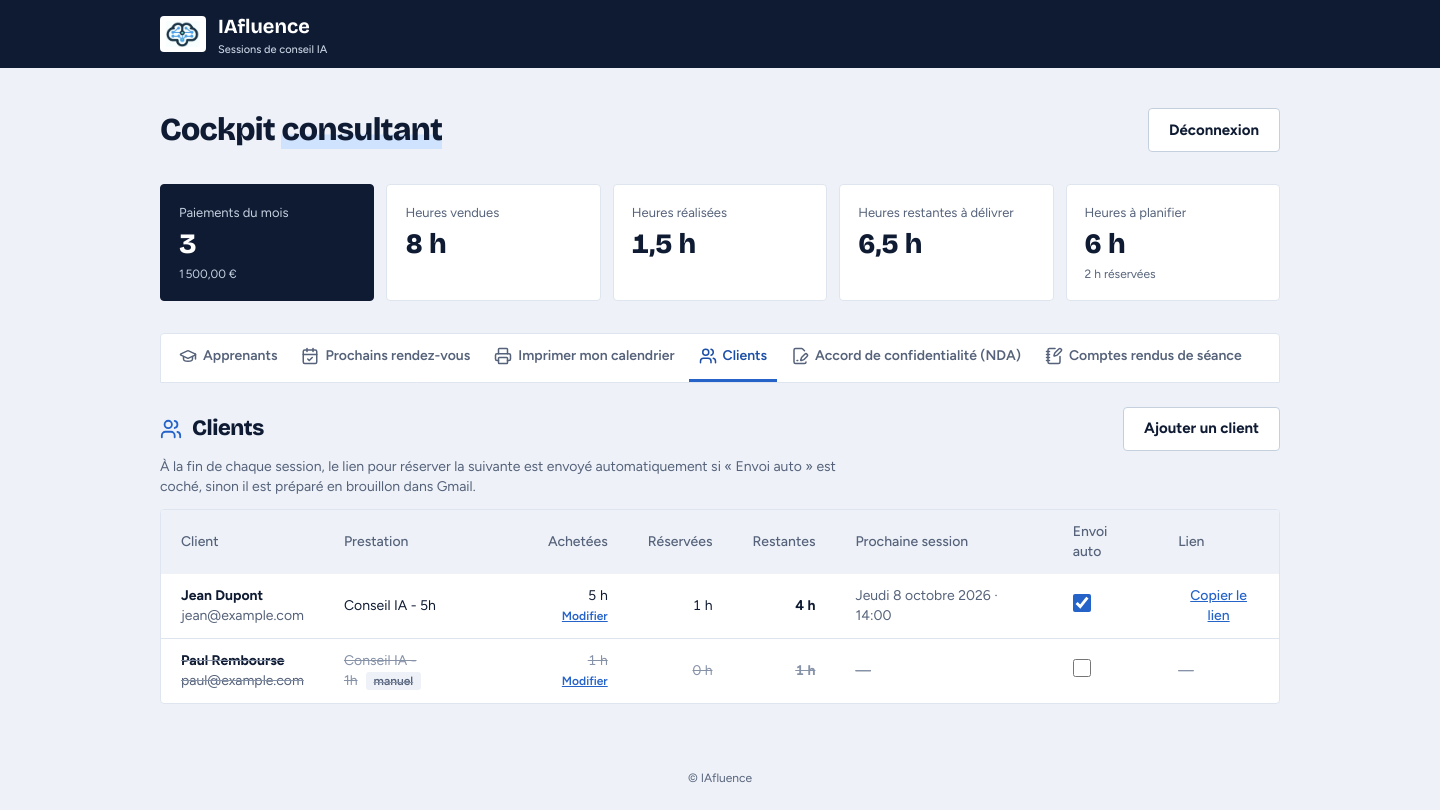
Test: Cockpit › copies a client's booking link
Click the button "Copier le lien".
click(1219, 606)  # box [1178,586,1259,626]
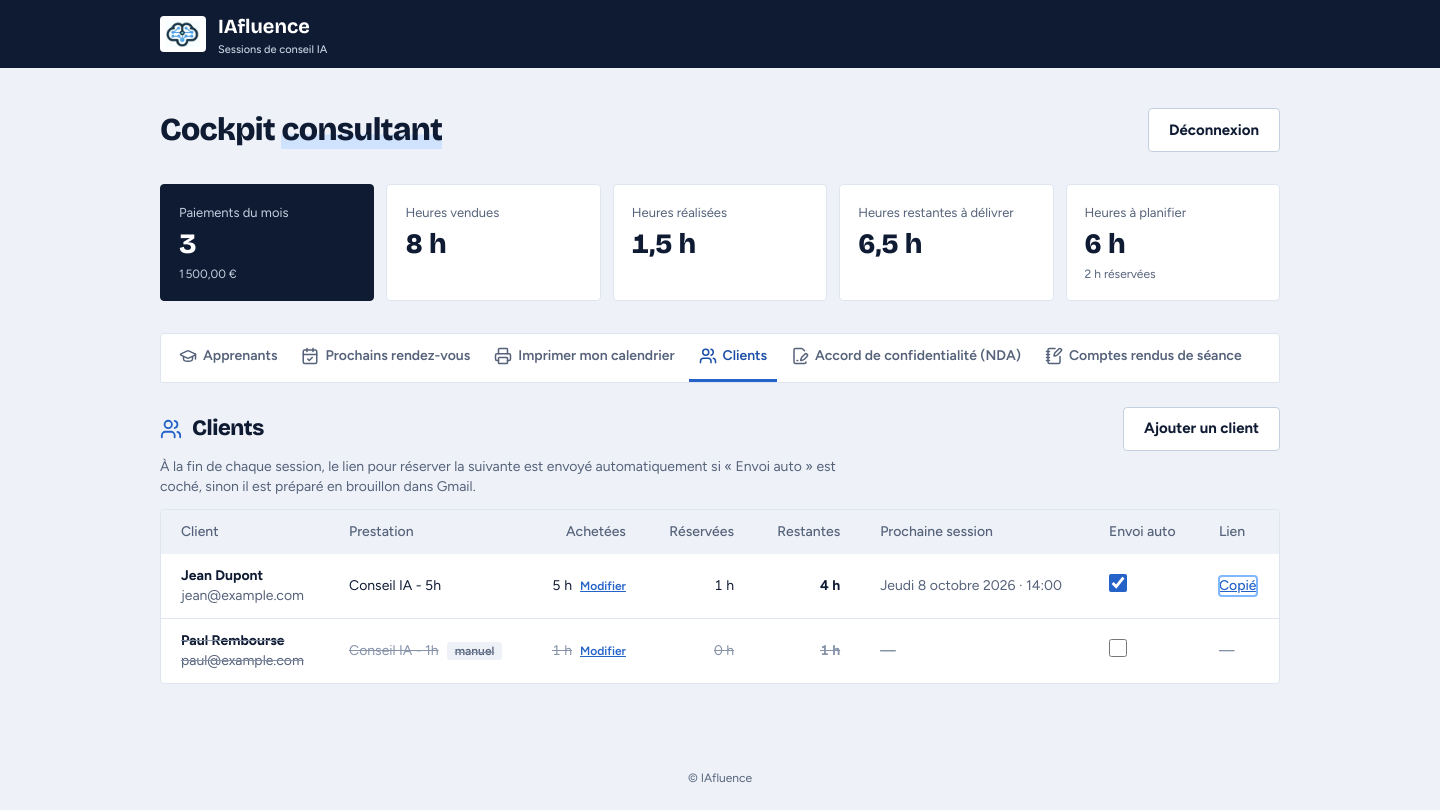
Expected: the button "Copié" is shown, [1219,576,1256,596]
